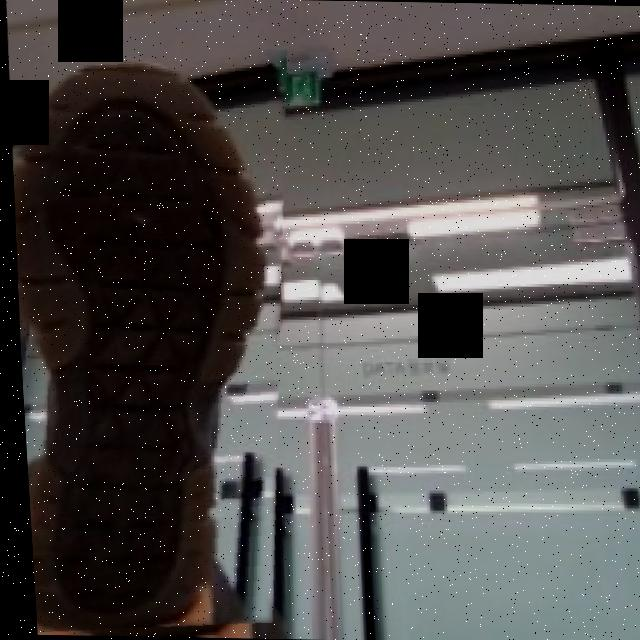shoe: (2, 44, 314, 639)
